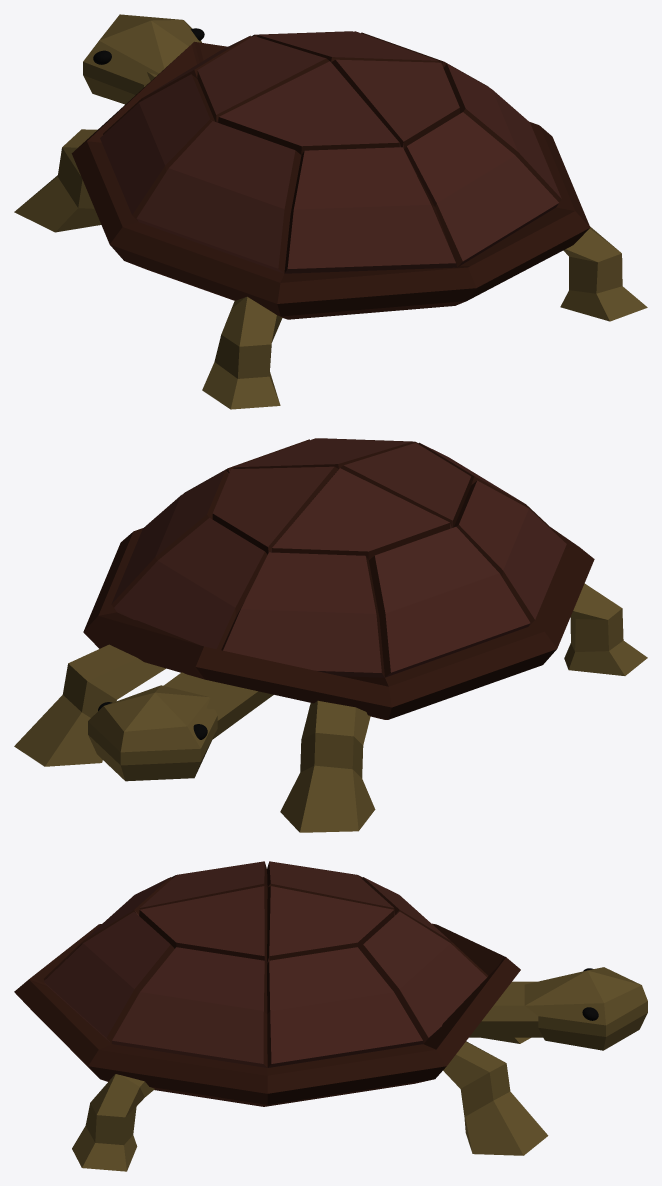
The model's file is THISTURTLE4.fbx.
The picture shows the model from 3 angles, top to bottom: view 1: azimuth 30°, elevation 25°; view 2: azimuth 150°, elevation 25°; view 3: azimuth 270°, elevation 25°; orthographic projection. The views are drawn at different scales.
Parts seen in each view (by area): view 1: turtle; view 2: turtle; view 3: turtle.
Boxes of the visible parts, x1,y1,x2,y2 form: turtle: (14,14,647,409); turtle: (14,438,647,832); turtle: (14,861,647,1171).
Bounding box in the file's own units: 205 × 99.65 × 292.
